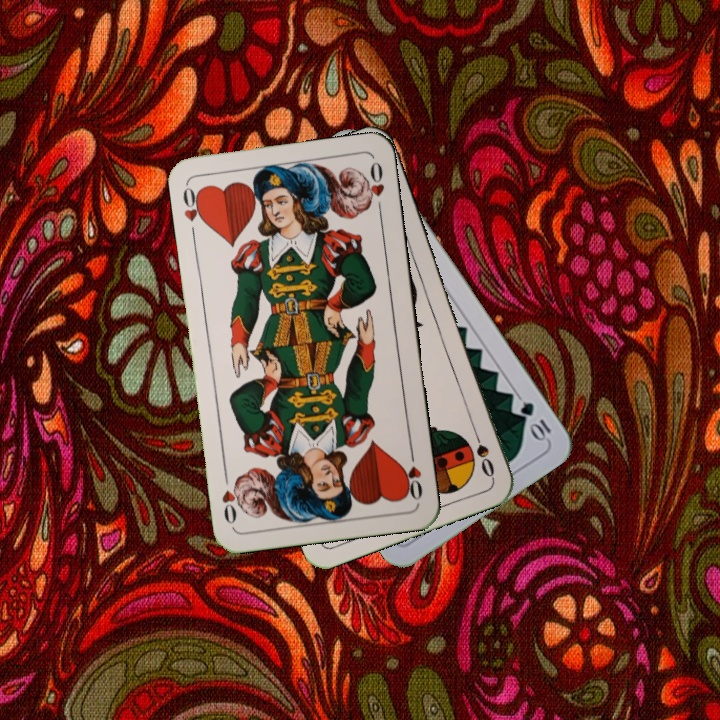G10: (516, 398, 554, 444)
HO: (178, 181, 208, 240), (399, 445, 425, 503)
SO: (468, 423, 497, 481)
